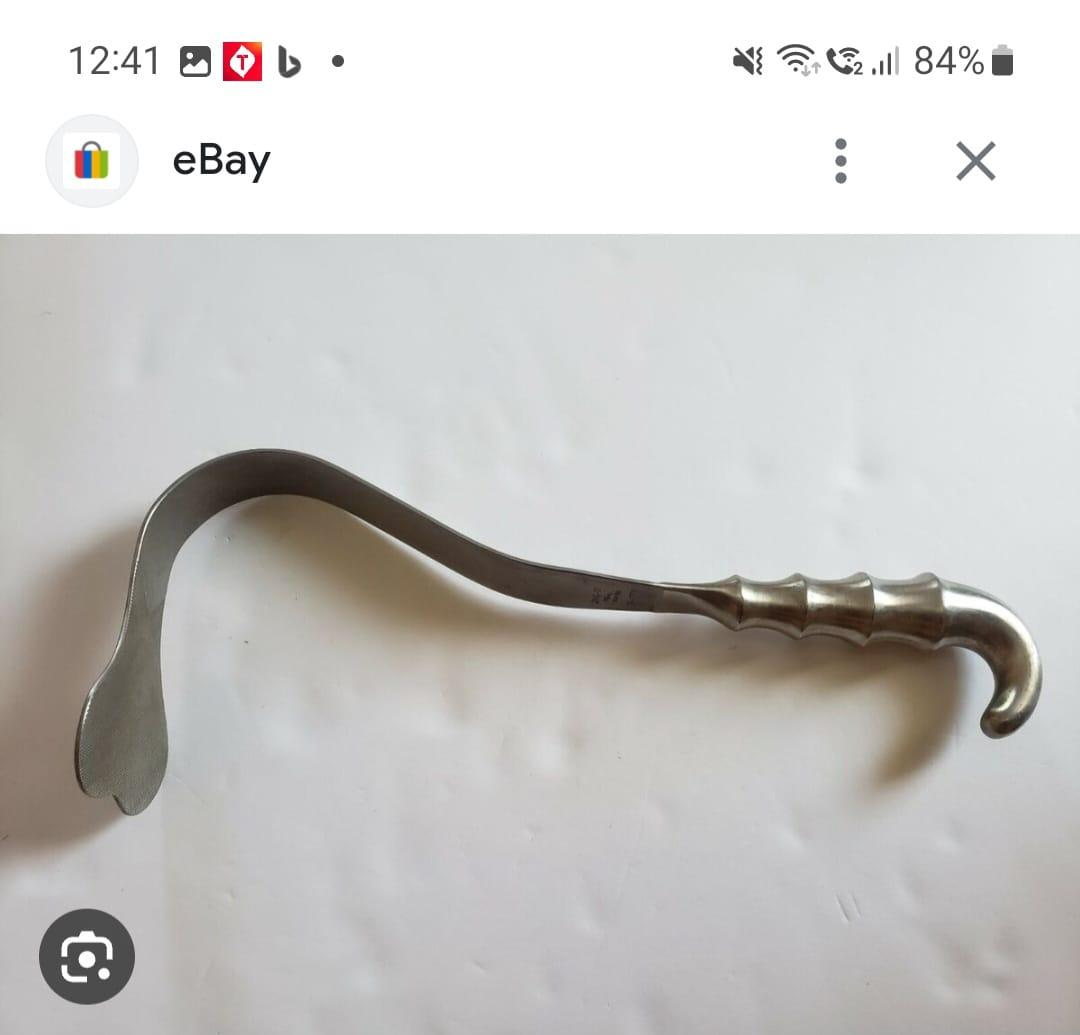Harrington Retractor: (55, 423, 1038, 853)
